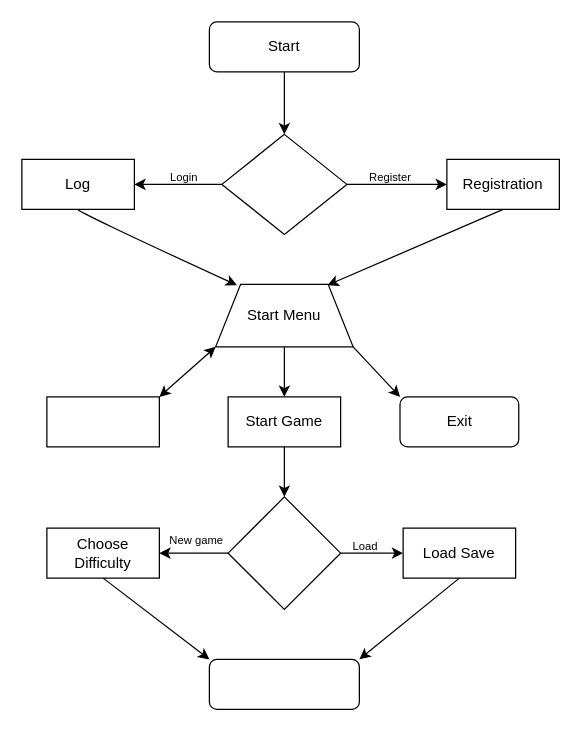
Image size: 581x731. Some labels were removed from this diagram. The centre of each missing label's shape, as x and y in pixels:
"Game Start" belongs at [283,683].
"Login or Register" belongs at [284,183].
"New Game or Load" belongs at [284,552].
"Rules" belongs at [102,421].
